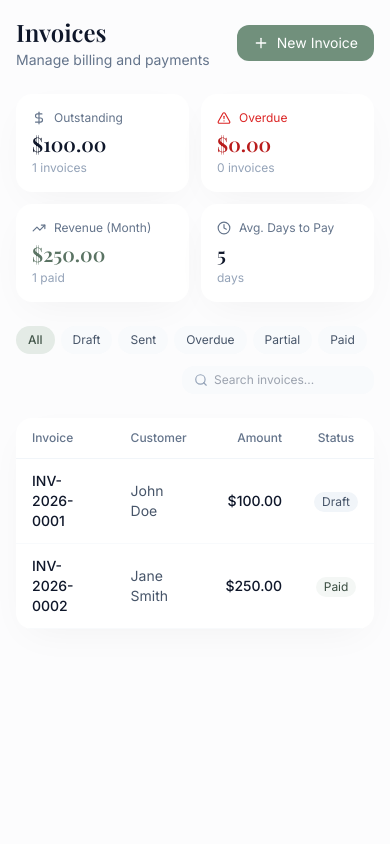
Test: InvoicesPage › filters by search input
The image size is (390, 844).
Expected: the text "INV-2026-0001" is shown, x1=16 y1=458 x2=115 y2=544
In the field with placeholder "Search invoices...": (278, 380) x1=182 y1=366 x2=374 y2=394, type "Jane"
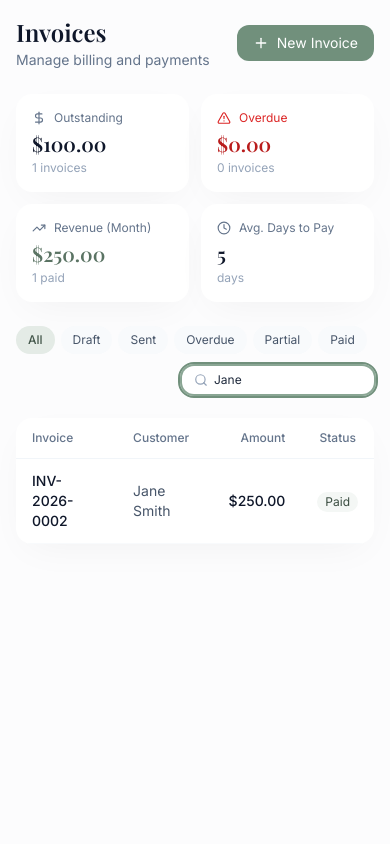
Expected: the text "INV-2026-0002" is shown, x1=16 y1=458 x2=117 y2=544
Now the text "INV-2026-0001" is gone
